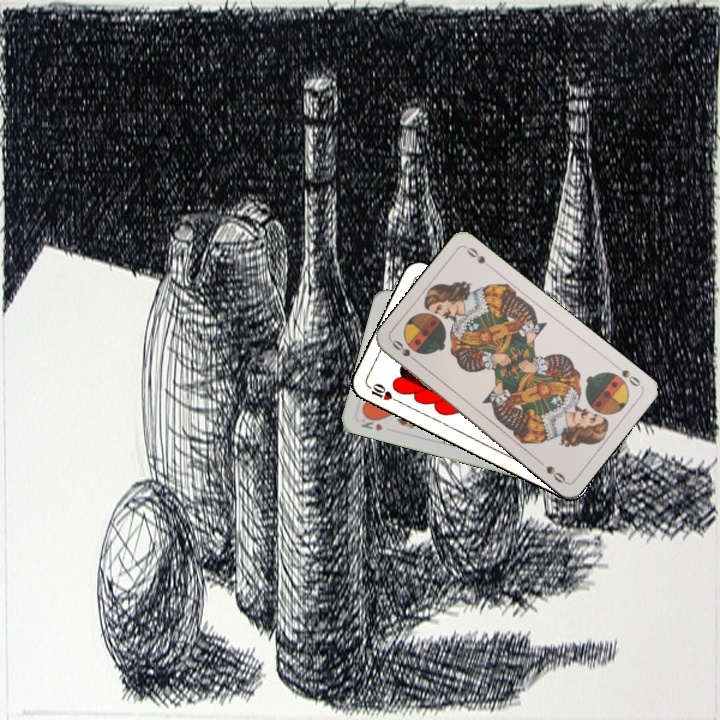H10: (363, 379, 401, 405)
HK: (357, 411, 385, 434)
SO: (387, 336, 422, 366), (610, 360, 644, 389)
